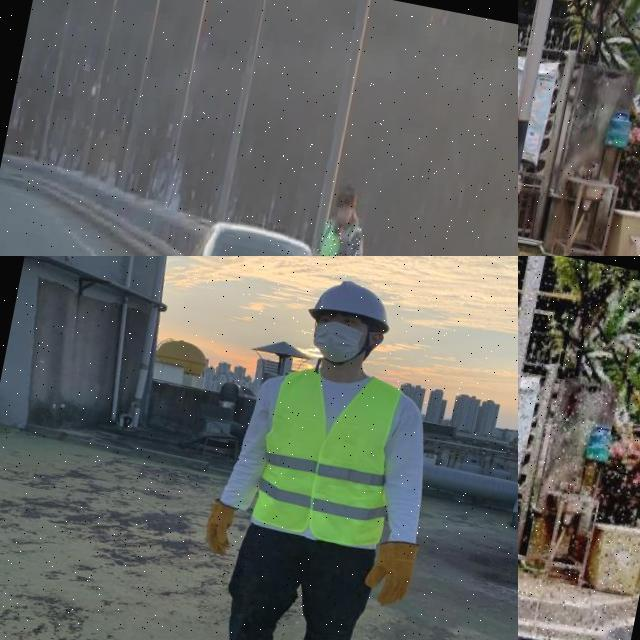helmet: (305, 274, 398, 334)
vest: (249, 360, 410, 550), (307, 221, 362, 256)
